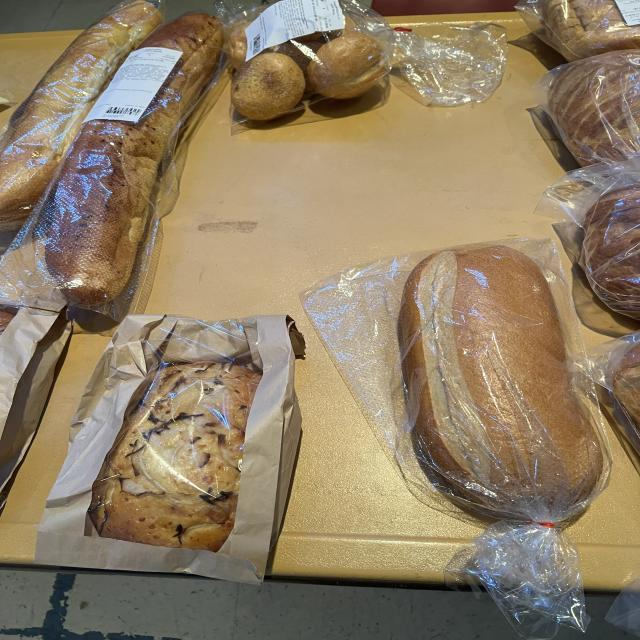Bread: (302, 239, 612, 640), (35, 315, 300, 584), (0, 15, 223, 320), (215, 0, 508, 134), (0, 0, 163, 221), (535, 158, 640, 319), (0, 306, 72, 490), (533, 49, 640, 166), (515, 0, 640, 61), (588, 331, 640, 452)
